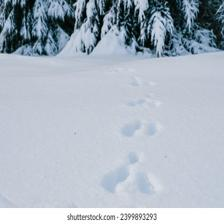rabbit: (104, 149, 162, 200)
